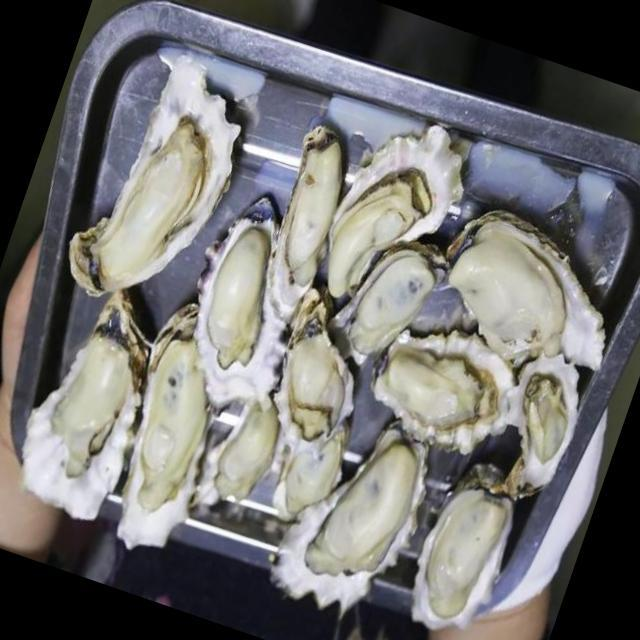Oyster-Open: (52, 36, 267, 327), (0, 267, 183, 533), (89, 290, 256, 568), (157, 185, 339, 435), (419, 190, 640, 390), (301, 101, 485, 331), (261, 402, 446, 630), (241, 115, 365, 333), (358, 308, 530, 464), (248, 290, 386, 473), (313, 217, 455, 391), (395, 472, 526, 640), (473, 339, 595, 508), (185, 377, 298, 534), (262, 400, 354, 536)
